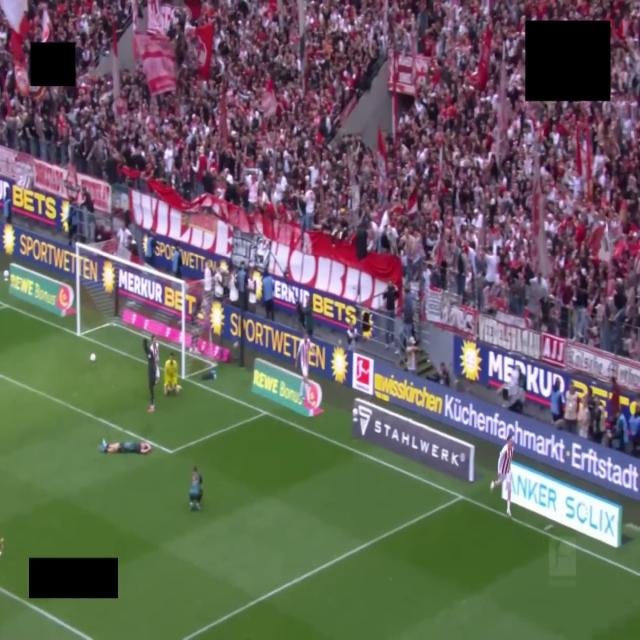ball: (90, 353, 96, 362)
player: (491, 434, 513, 515), (143, 336, 158, 412), (164, 352, 181, 395), (100, 440, 151, 454), (189, 467, 202, 510), (151, 336, 159, 383), (0, 539, 3, 556)
